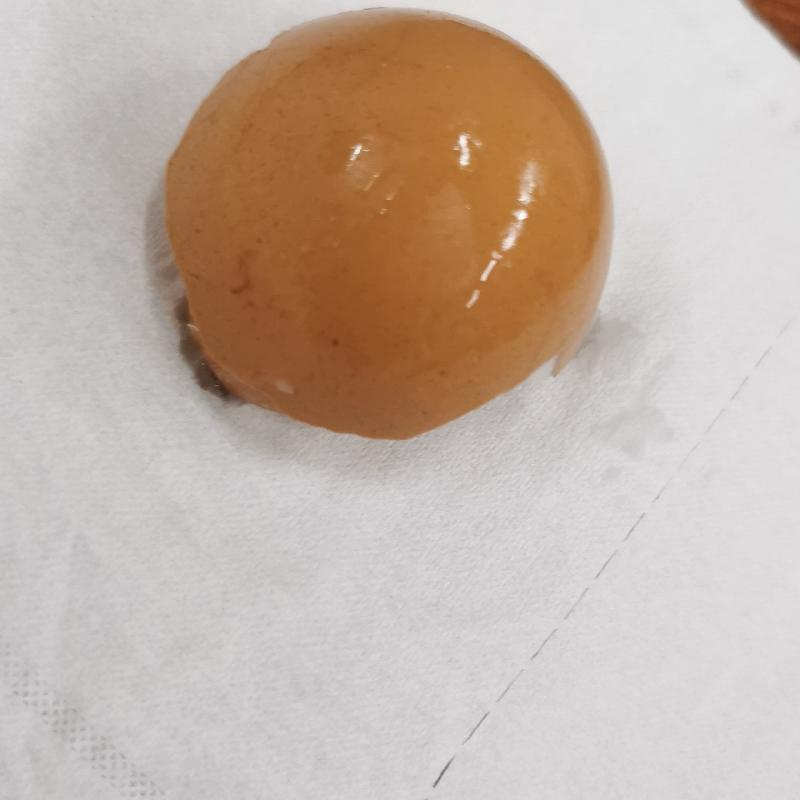eggshell: (160, 10, 613, 442)
